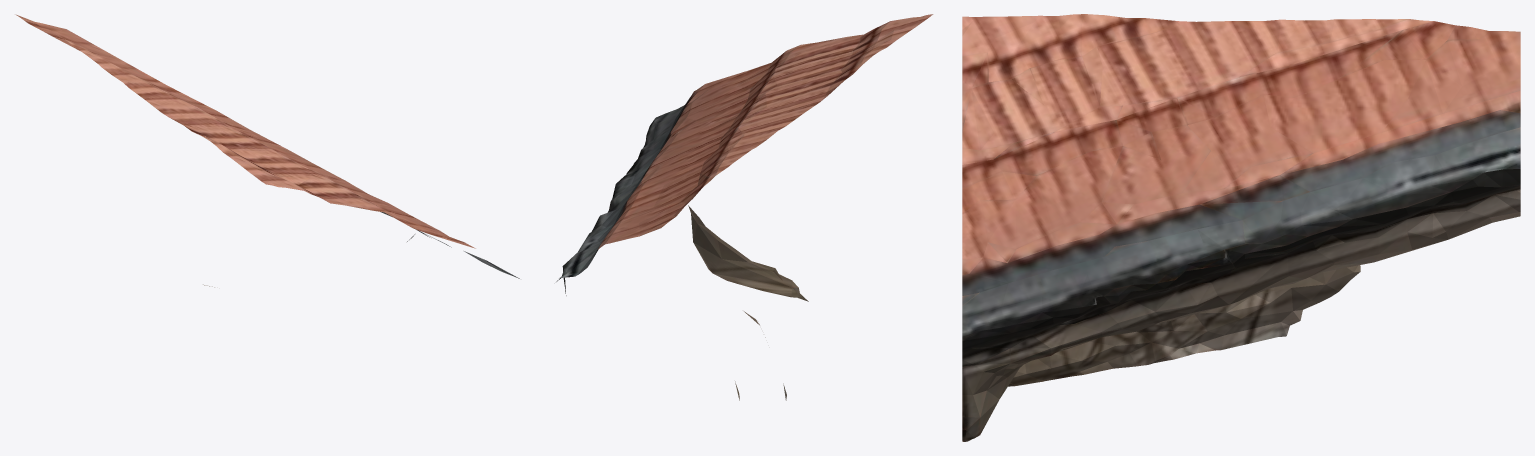
3 views of the same model, side by side, from view 1: azimuth 30°, elevation 25°; view 2: azimuth 150°, elevation 25°; view 3: azimuth 270°, elevation 25° (orthographic). The views are drawn at different scales.
Size of the model in its own units: 0.9979 by 1.07 by 1.67.
3 materials, 3 textured.
